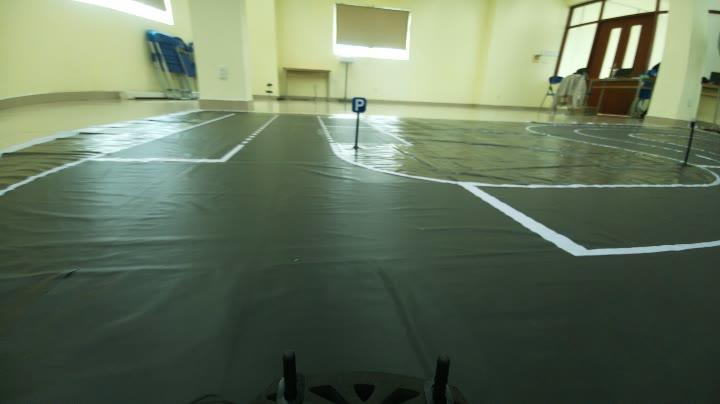parking: (342, 92, 373, 118)
